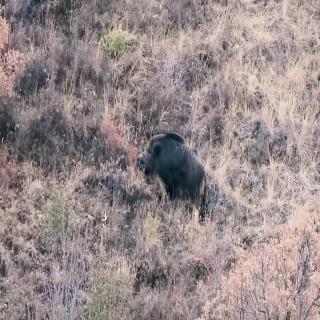Pig: (138, 110, 213, 211)
